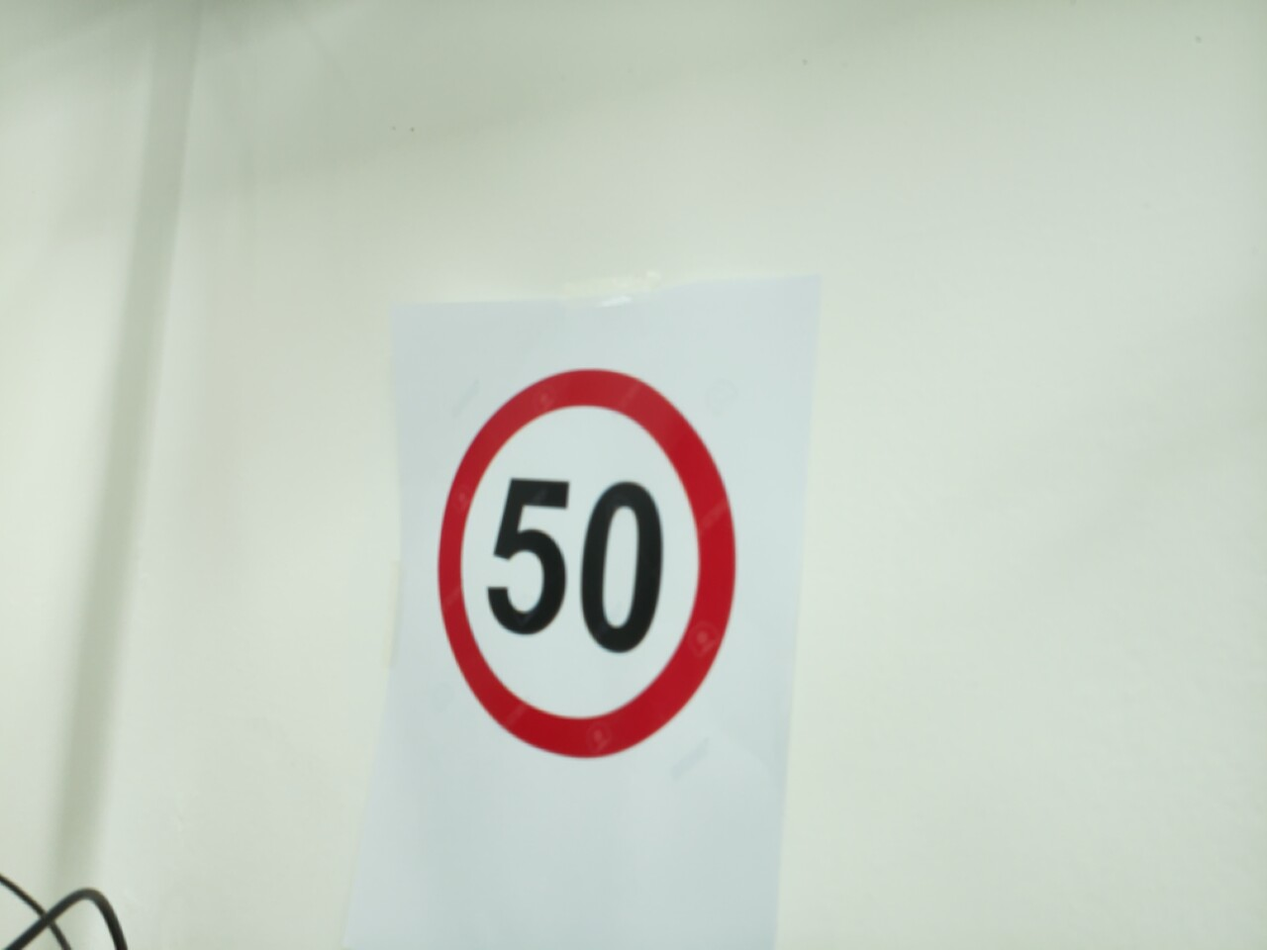speed_50: (428, 357, 745, 770)
